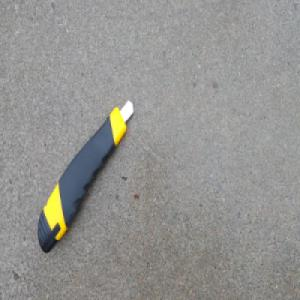Cutter: (37, 99, 135, 256)
